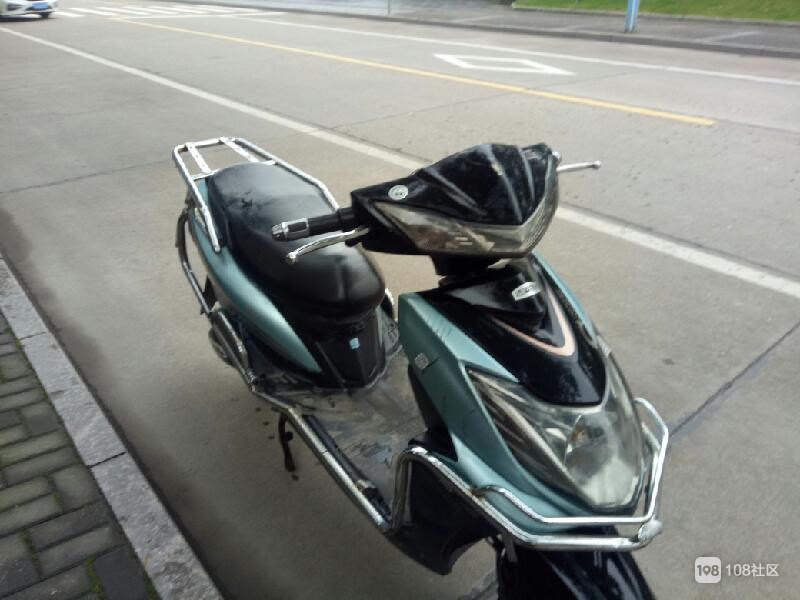电动车: (144, 115, 704, 600)
